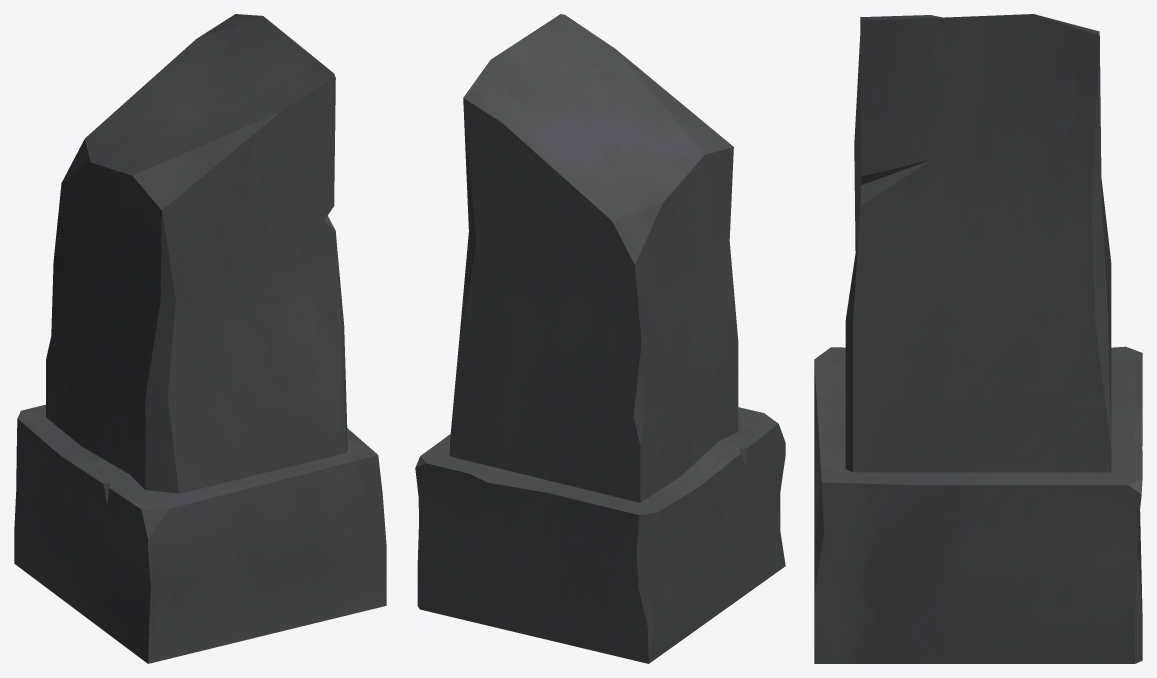
Rendered from ruins_pillar_broken.fbx.
The picture shows the model from 3 angles, left to right: view 1: azimuth 30°, elevation 25°; view 2: azimuth 150°, elevation 25°; view 3: azimuth 270°, elevation 25°; orthographic projection. The views are drawn at different scales.
Parts seen in each view (by area): view 1: pillar_broken; view 2: pillar_broken; view 3: pillar_broken.
Boxes of the visible parts, <box> form: pillar_broken: <box>14,14,386,663</box>; pillar_broken: <box>415,14,785,663</box>; pillar_broken: <box>814,14,1142,663</box>.
Bounding box in the file's own units: 60 × 127 × 60.
